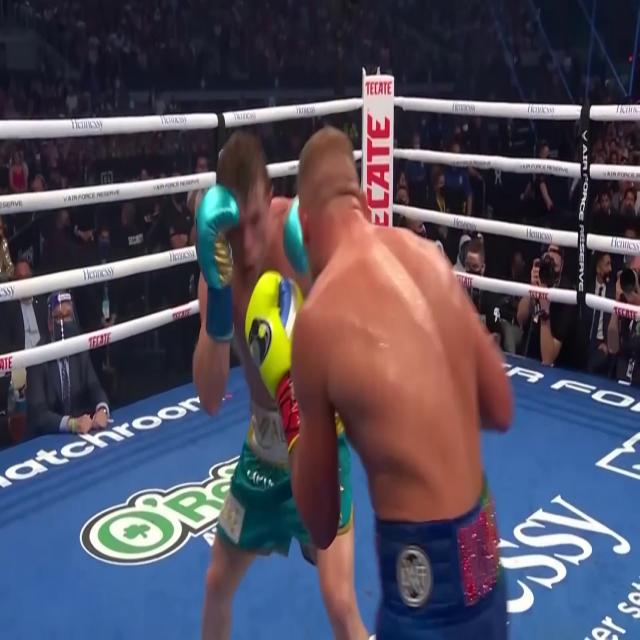boxer_1: (299, 128, 512, 639)
boxer_2: (218, 126, 312, 465)
gloves_1: (246, 271, 302, 451)
gloves_2: (196, 183, 239, 340), (284, 196, 308, 273)
